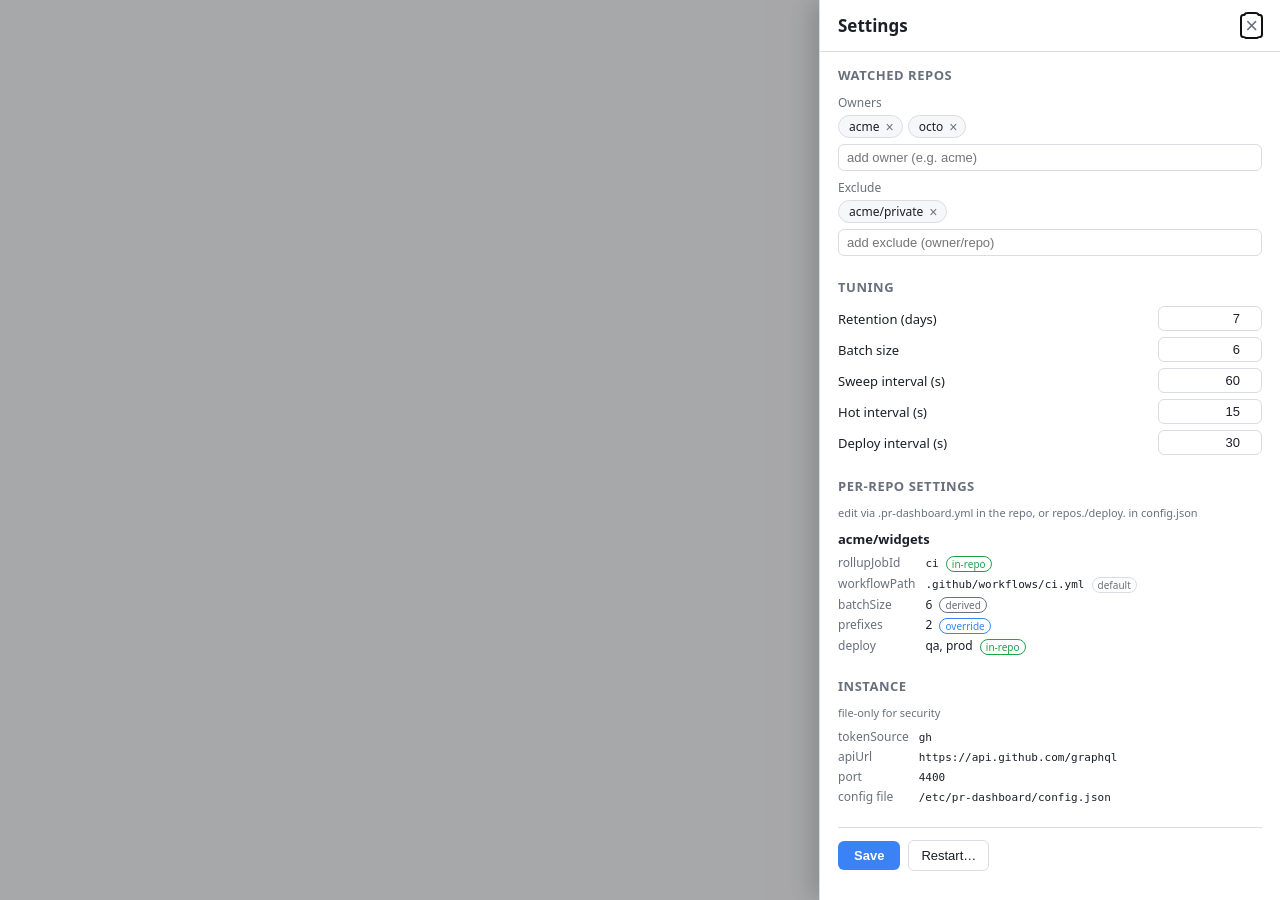
Test: SettingsPanel › adds and removes owner chips
Expected: the text "acme" is shown, [849, 118, 880, 135]
Step 1. Type "newowner" into the field labelled "add owner (e.g. acme)" → point(1050, 158), box [838, 144, 1262, 171]
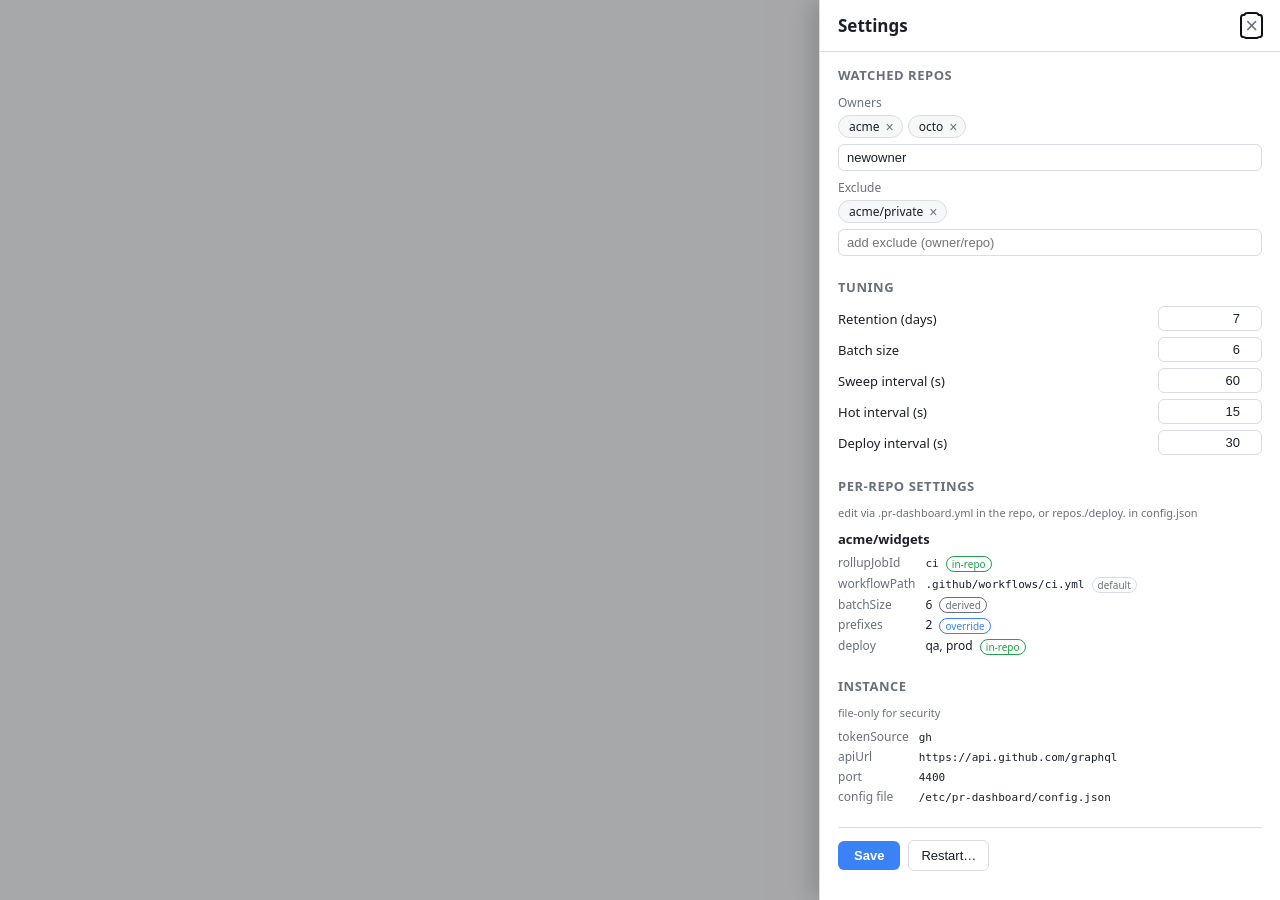
Step 2. Press Enter in the field named "add owner", box [838, 144, 1262, 171]
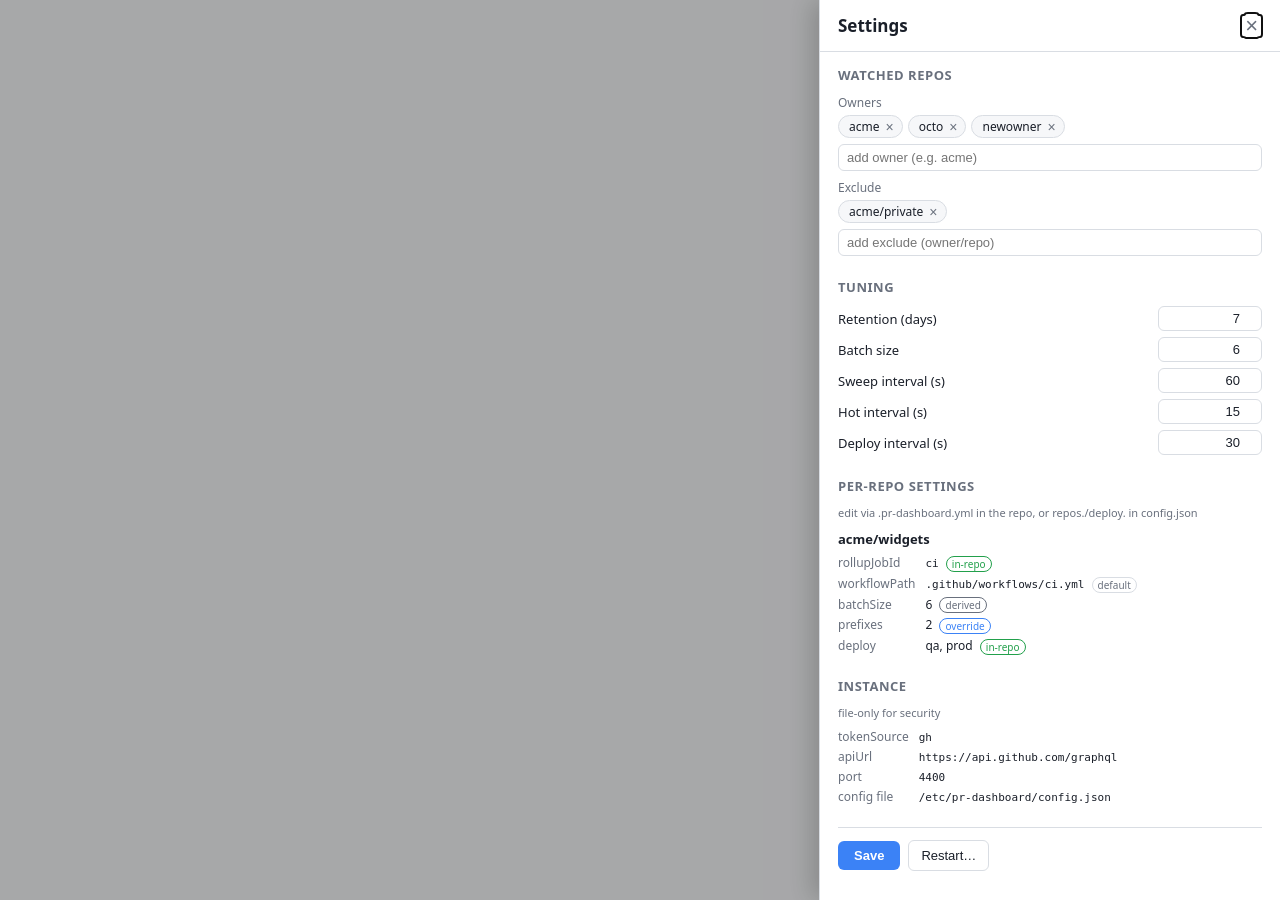
Expected: the text "newowner" is shown, [982, 118, 1042, 135]
# remove it
Step 3. Click the button named "remove owner" → point(1052, 126), box [1046, 120, 1058, 134]
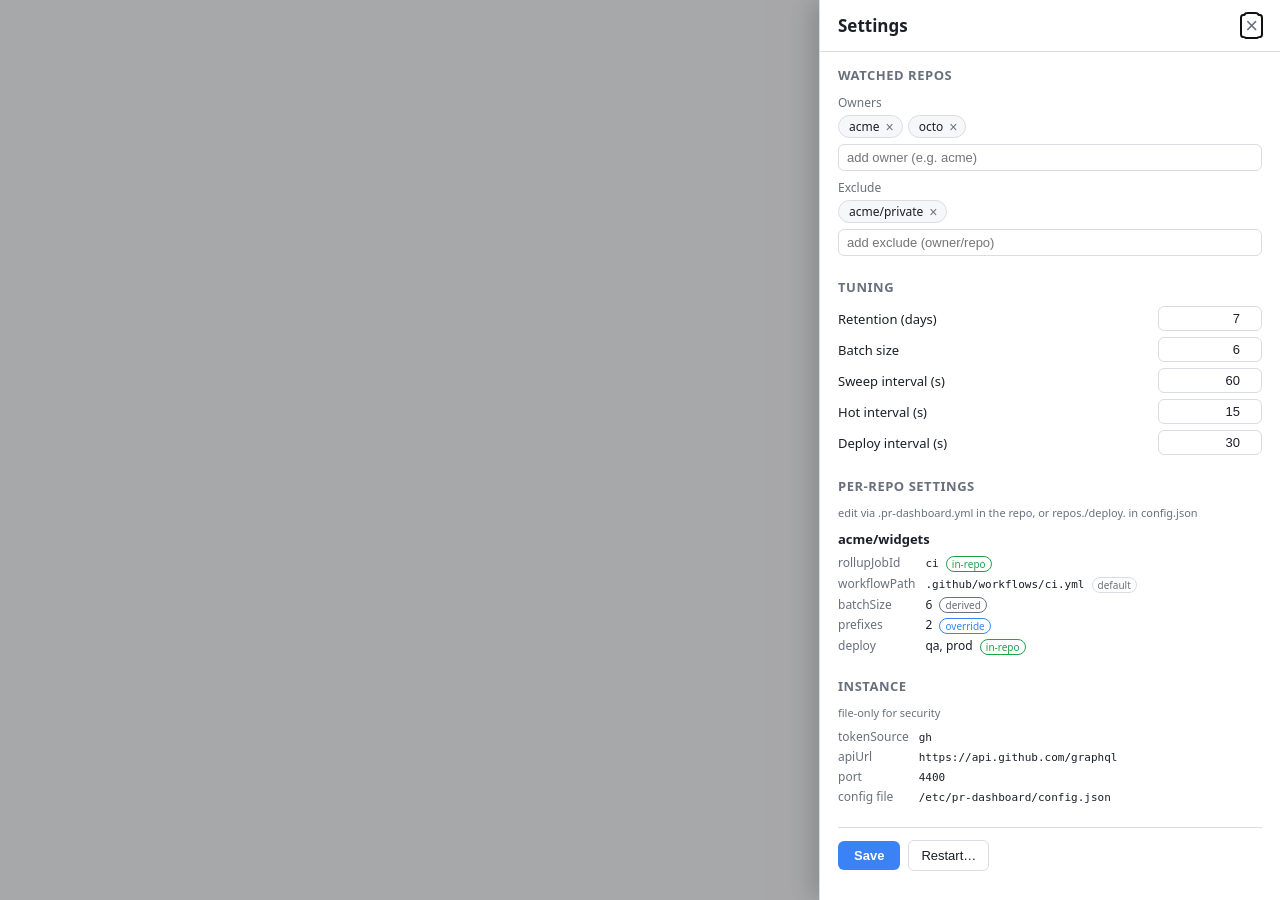
Expected: the text "newowner" is gone
